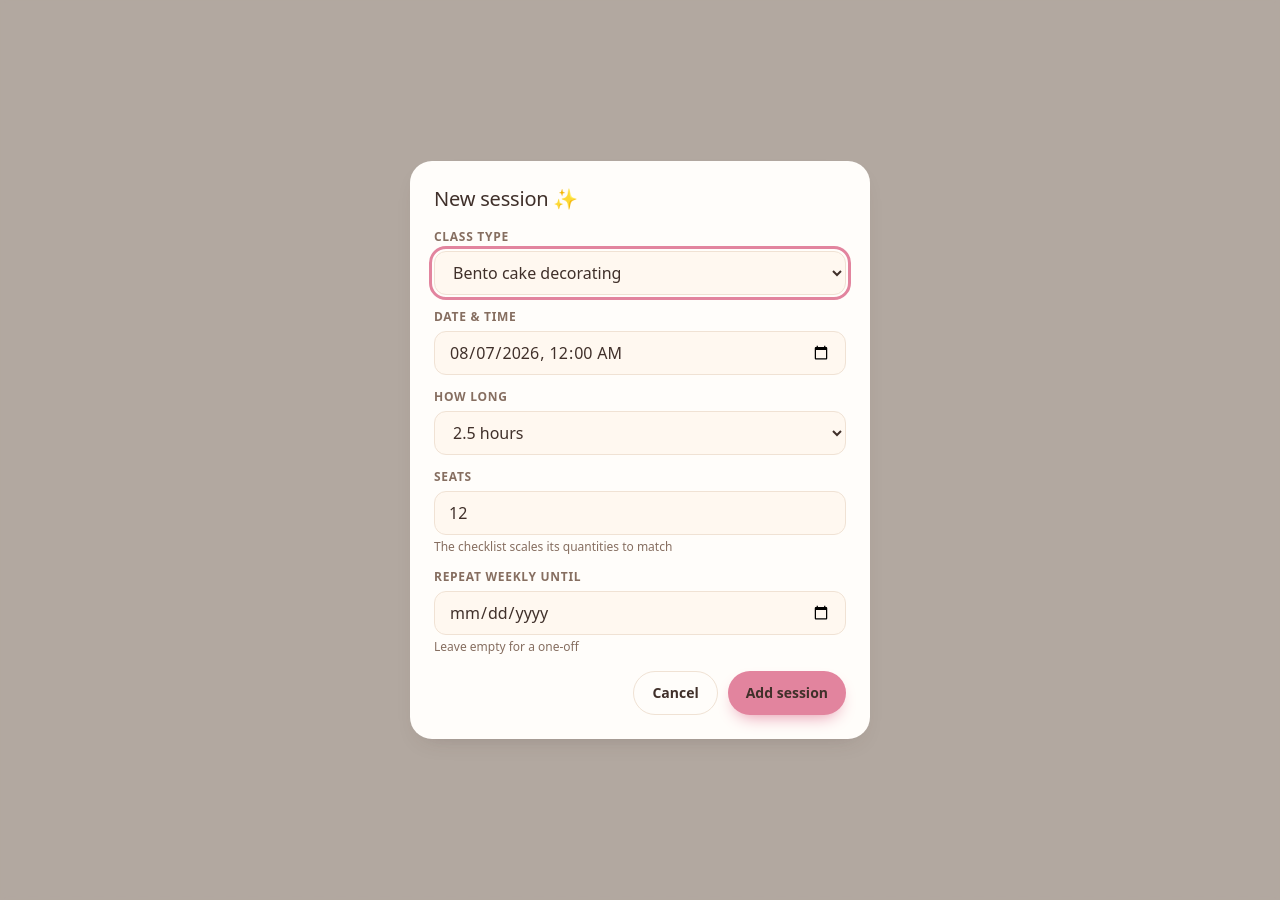
Scenario: NewSessionModal › brings the class type defaults with it
Expected: the number field labelled "Seats" holds "12", [434, 491, 846, 535]
Select "Pottery & wheel throwing" in the dropdown labelled "Class type". click: (640, 273)
box: [434, 251, 846, 295]
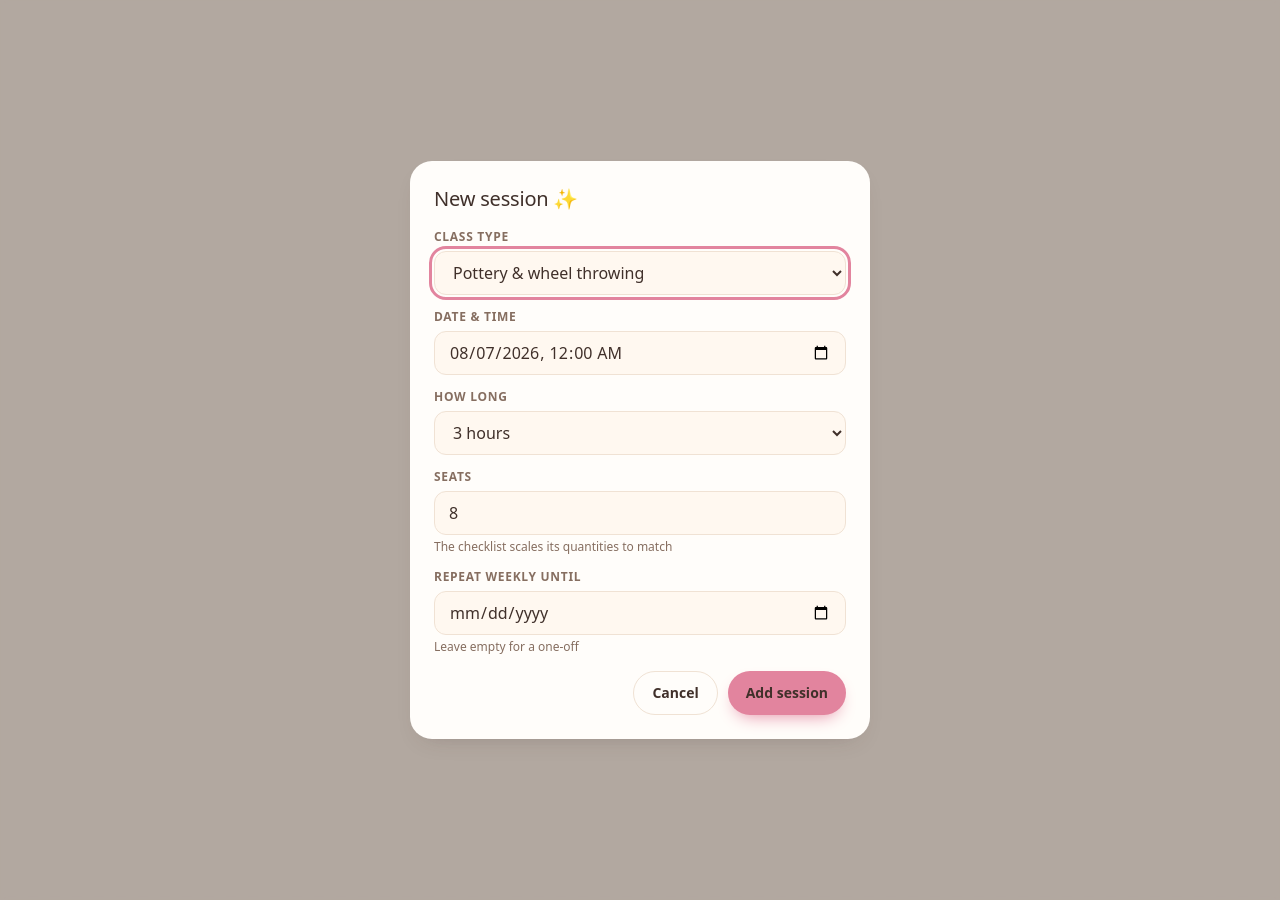
Expected: the number field labelled "Seats" holds "8", [434, 491, 846, 535]
Expected: the dropdown labelled "How long" shows "3 hours", [434, 411, 846, 455]
